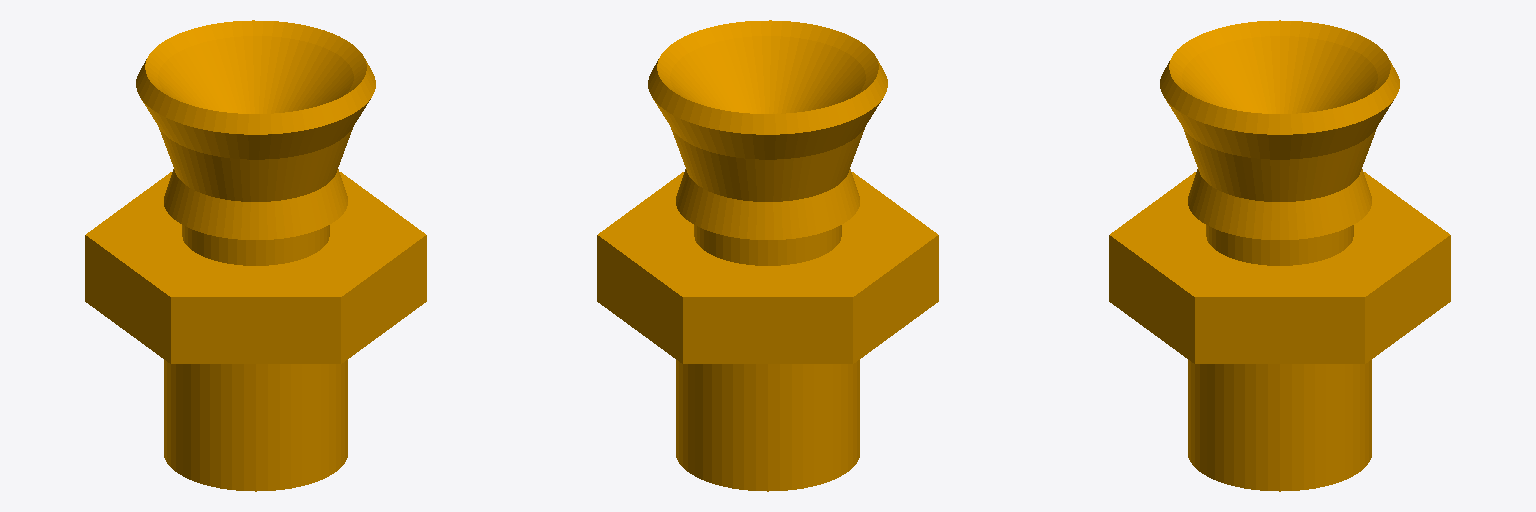
The robot description file, URDF, robot "schmalz_pfyn_6_esd":
<?xml version="1.0"?>
<robot name="schmalz_pfyn_6_esd">
<link name="mount"><visual ><geometry ><mesh filename="../meshes/mount.obj"/></geometry></visual><collision ><origin xyz="0 0 0.001" rpy="0 0 0"/><geometry ><cylinder radius="0.00462" length="0.002"/></geometry></collision><collision ><origin xyz="0 0 0.0045" rpy="0 0 0"/><geometry ><cylinder radius="0.00325" length="0.005"/></geometry></collision></link>
<link name="tcp"></link>
<joint name="tcp_joint" type="fixed"><parent link="mount"/><child link="tcp"/><origin xyz="0 0 0.007" rpy="0 0 0"/></joint>
</robot>

--- Facts derived from the render (not from the file) ---
Views: 3 orthographic renders of the robot side by side, from view 1: azimuth 30°, elevation 25°; view 2: azimuth 150°, elevation 25°; view 3: azimuth 270°, elevation 25°.
Robot: schmalz_pfyn_6_esd — 2 links, 1 joints (1 fixed); root link mount; default pose: every joint at zero.
Visible links, largest first — view 1: mount; view 2: mount; view 3: mount.
Link boxes in pixels (x1,y1,x2,y2): mount: (85,20,426,491); mount: (597,20,938,491); mount: (1109,20,1450,491).
Bounding box of the posed robot: 0.008 × 0.0092 × 0.0115 m (x, y, z).
1 mesh visuals loaded from 1 distinct referenced files (1 OBJ).
